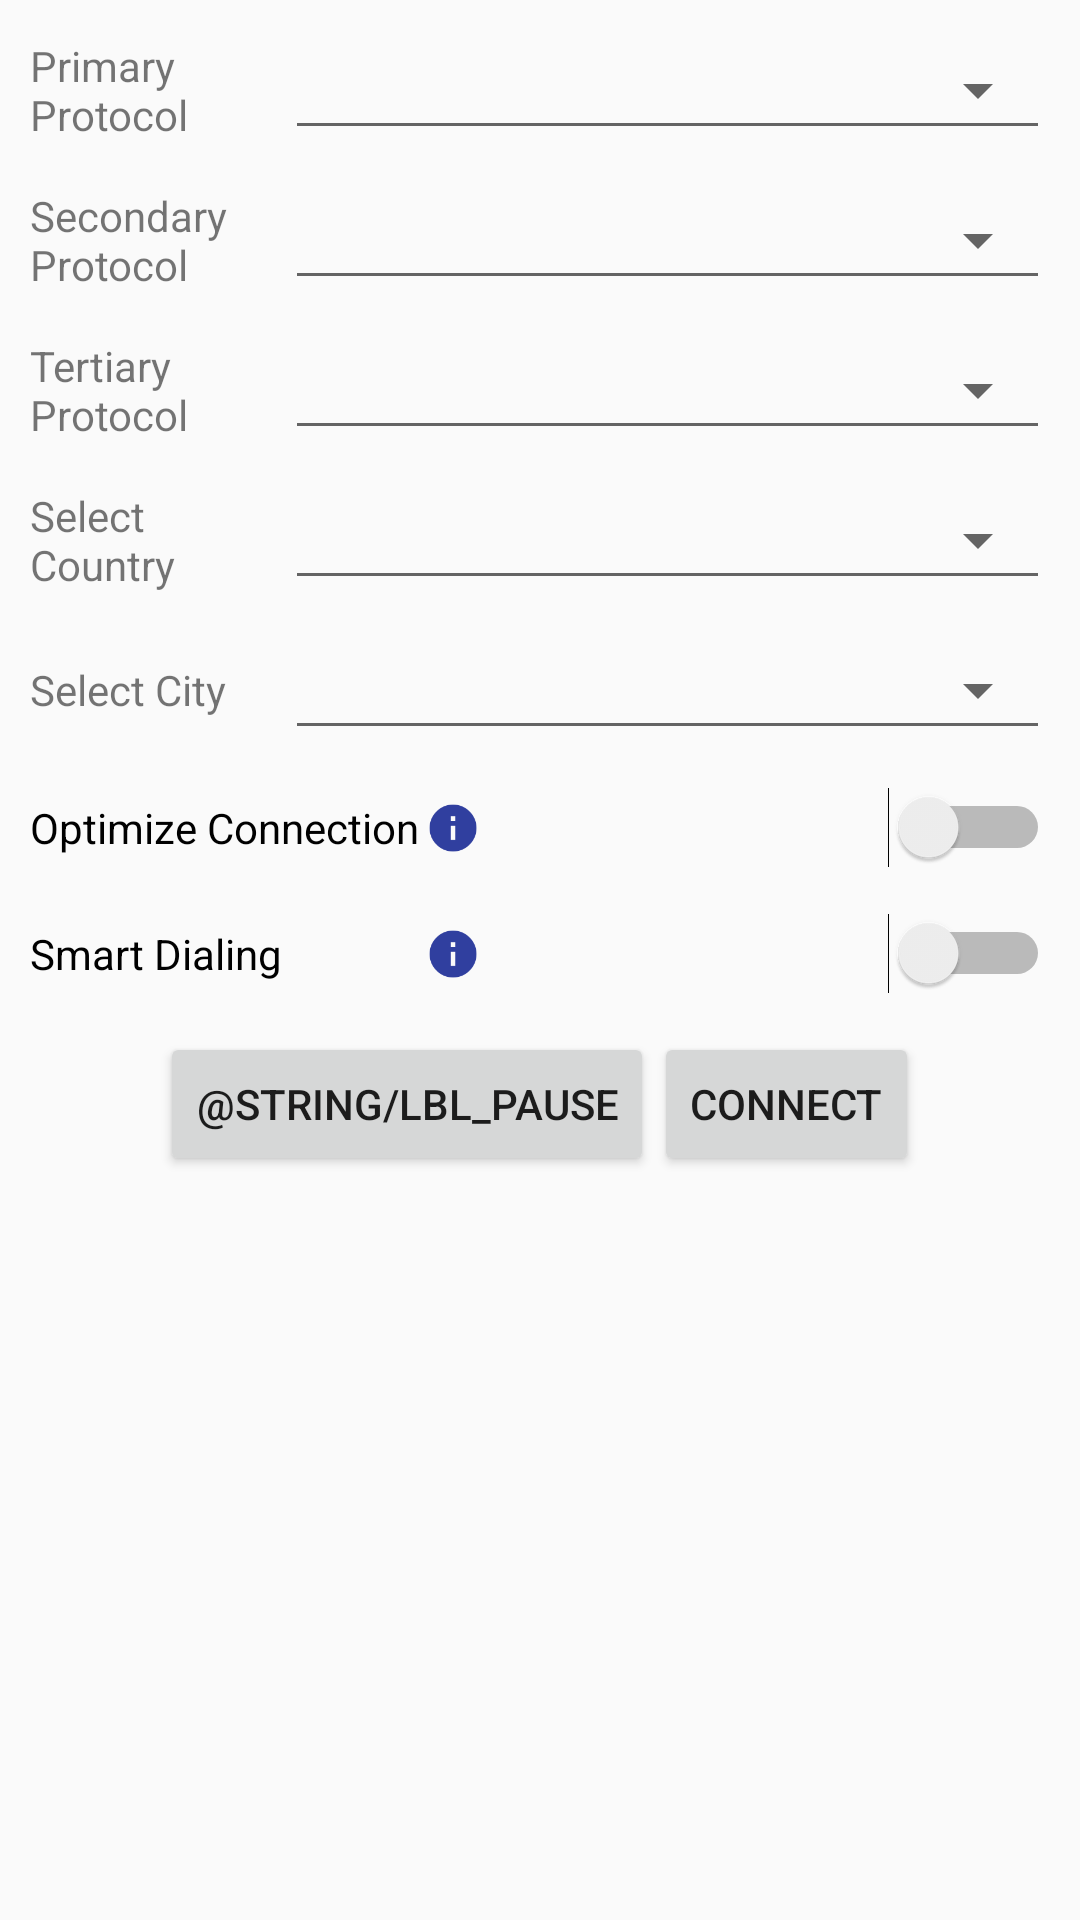

Icon click points for this 1080x1920 phone screenshot, format [x,y]:
info: [453,828], [453,954]
